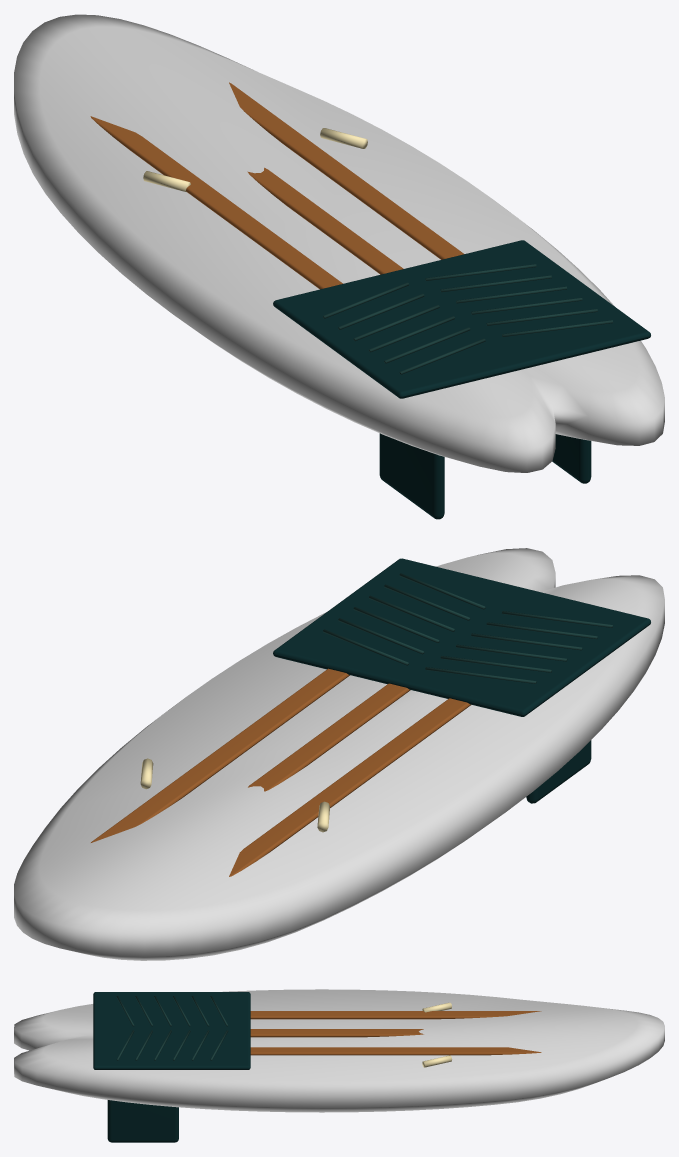
Rendered from board-manglar-v9.glb.
3 renders of one model, top to bottom at view 1: azimuth 30°, elevation 25°; view 2: azimuth 150°, elevation 25°; view 3: azimuth 270°, elevation 25°, orthographic. The views are drawn at different scales.
Parts seen in each view (by area): view 1: BoardColor.001, Equipment lagoon.001, Recovered wood, Rubber ridge.001, Equipment cream.001; view 2: BoardColor.001, Equipment lagoon.001, Recovered wood, Rubber ridge.001, Equipment cream.001; view 3: BoardColor.001, Equipment lagoon.001, Recovered wood, Rubber ridge.001, Equipment cream.001.
Part boxes in pixels (bbox=[...]): BoardColor.001: bbox=[14, 14, 664, 472]; Equipment lagoon.001: bbox=[273, 240, 650, 519]; Recovered wood: bbox=[90, 82, 464, 289]; Rubber ridge.001: bbox=[323, 264, 613, 374]; Equipment cream.001: bbox=[143, 128, 367, 191]; BoardColor.001: bbox=[14, 548, 664, 960]; Equipment lagoon.001: bbox=[273, 558, 650, 803]; Recovered wood: bbox=[91, 668, 471, 876]; Rubber ridge.001: bbox=[323, 573, 612, 683]; Equipment cream.001: bbox=[140, 758, 329, 832]; BoardColor.001: bbox=[14, 989, 664, 1112]; Equipment lagoon.001: bbox=[93, 992, 250, 1142]; Recovered wood: bbox=[250, 1011, 541, 1055]; Rubber ridge.001: bbox=[116, 995, 228, 1060]; Equipment cream.001: bbox=[422, 1002, 452, 1067].
Bounding box in the file's own units: 1.32 × 0.5969 × 3.64.
